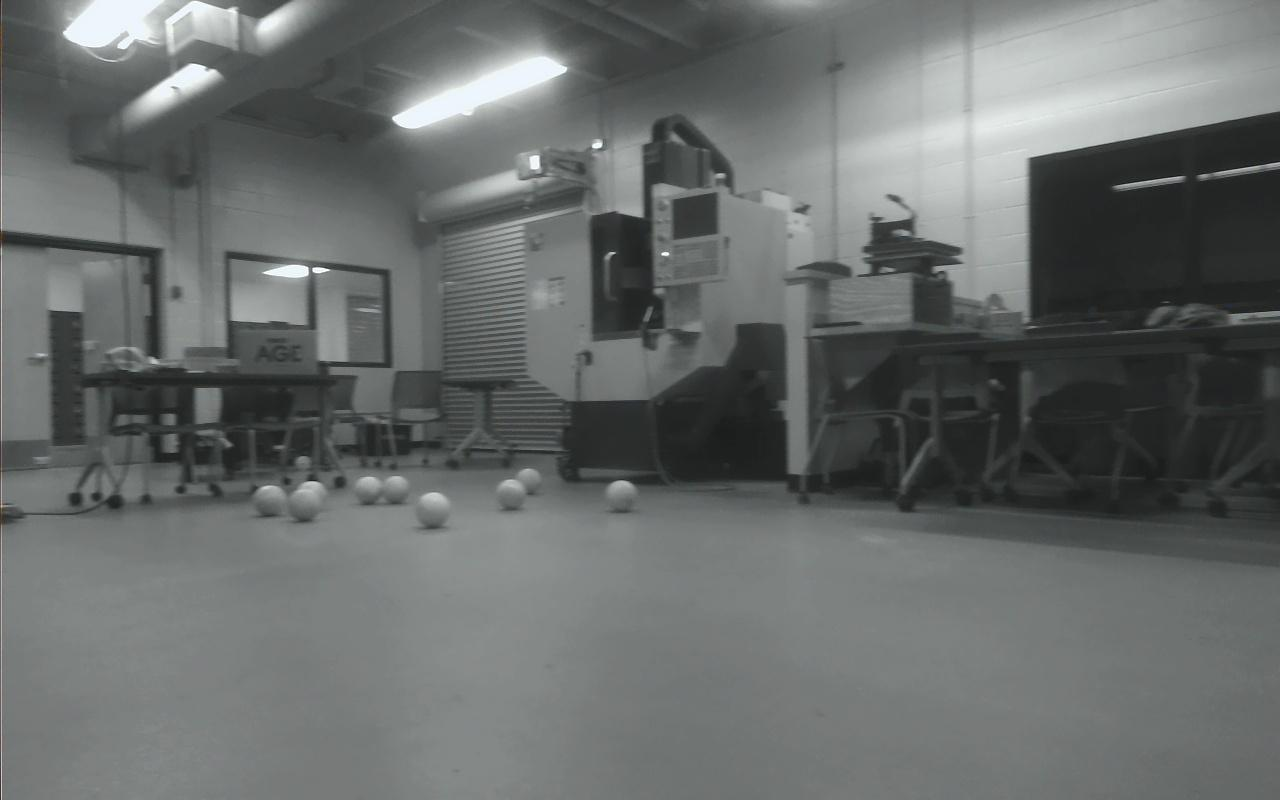Fuel: (415, 491, 451, 529), (287, 486, 321, 522), (605, 479, 637, 513), (253, 484, 285, 517), (495, 479, 527, 511), (297, 478, 326, 511), (380, 476, 410, 504), (355, 476, 381, 505), (516, 468, 541, 496)
